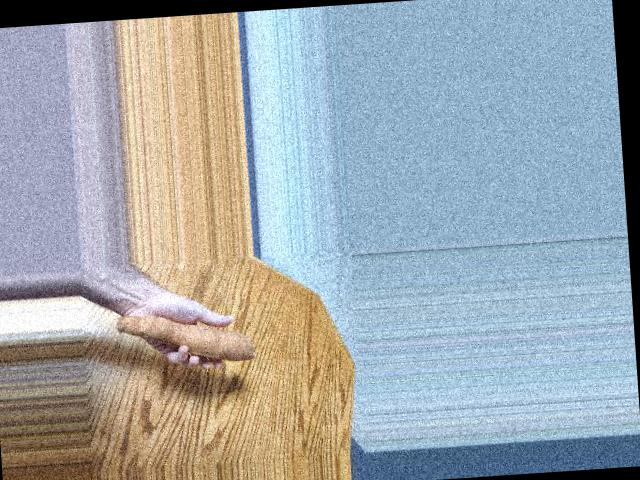sweet_potato: (102, 307, 257, 375)
